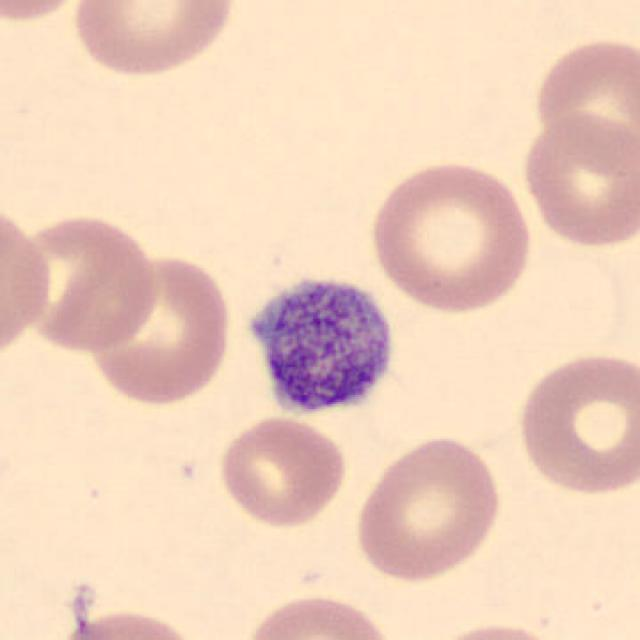Platelets: (252, 272, 398, 418)
RBC: (364, 155, 538, 316), (84, 250, 236, 409), (350, 432, 505, 584), (12, 208, 162, 356), (512, 346, 638, 499), (518, 110, 638, 250), (215, 412, 350, 530), (528, 31, 640, 168), (68, 0, 240, 81), (0, 200, 55, 362), (238, 590, 400, 640), (47, 606, 204, 640), (421, 619, 569, 640), (0, 0, 96, 25)
